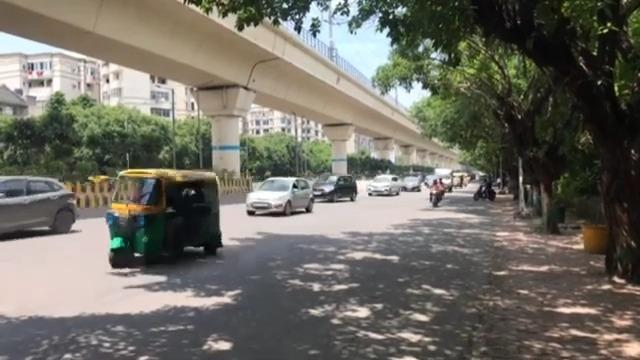Auto: (104, 166, 223, 268)
Bike: (472, 173, 496, 201), (428, 174, 444, 207)
